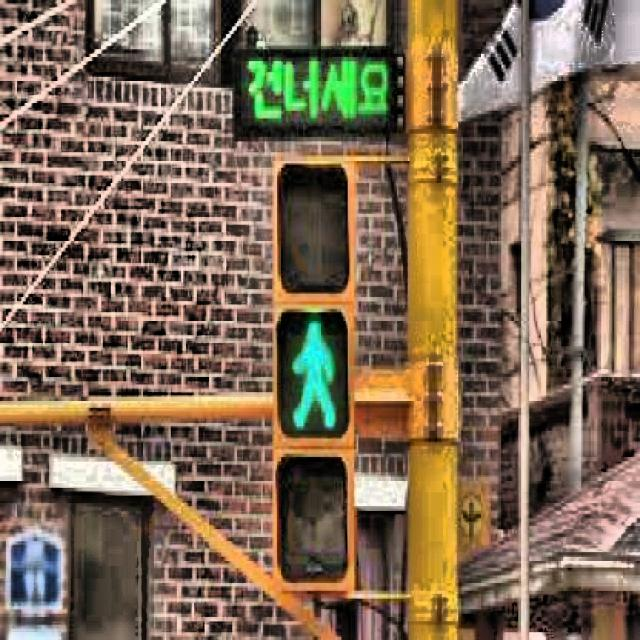semaforo pedestre: (198, 132, 420, 619)
